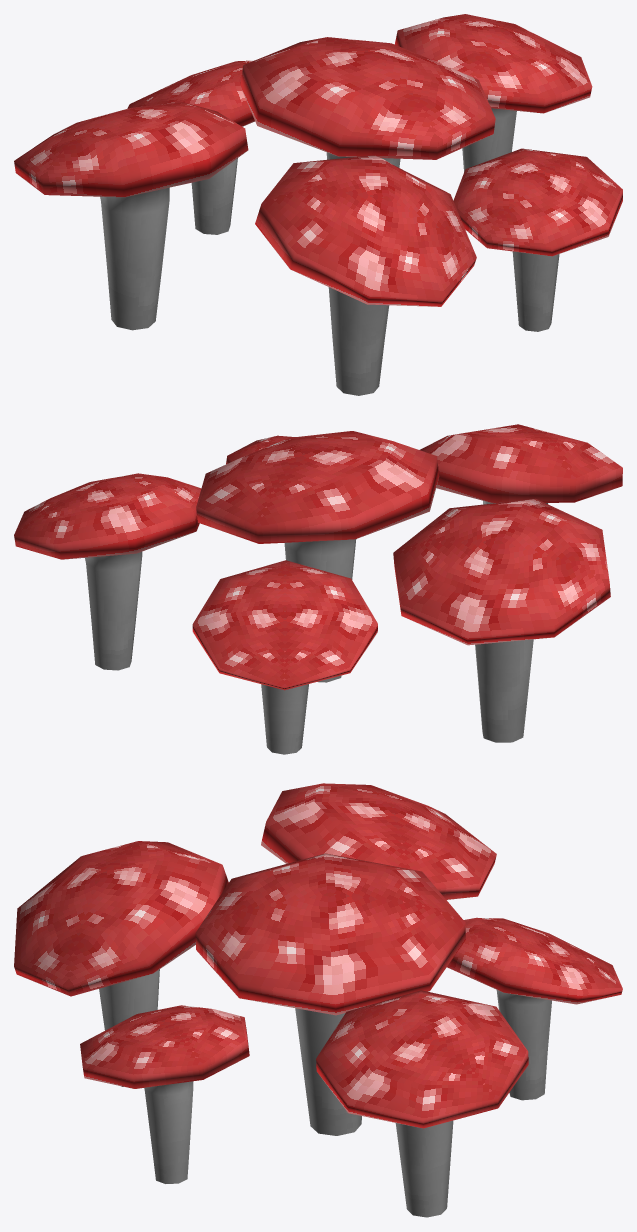
File: Mushroom_Geo.fbx
3 renders of one model, top to bottom at view 1: azimuth 30°, elevation 25°; view 2: azimuth 150°, elevation 25°; view 3: azimuth 270°, elevation 25°, orthographic. The views are drawn at different scales.
Visible parts, largest first — view 1: Mushroom01_Geo; view 2: Mushroom01_Geo; view 3: Mushroom01_Geo.
Boxes of the visible parts, x1=… form: Mushroom01_Geo: x1=14, y1=14, x2=622, y2=395; Mushroom01_Geo: x1=14, y1=424, x2=622, y2=754; Mushroom01_Geo: x1=14, y1=783, x2=622, y2=1217.
Bounding box in the file's own units: 54.11 × 21.21 × 48.31.
